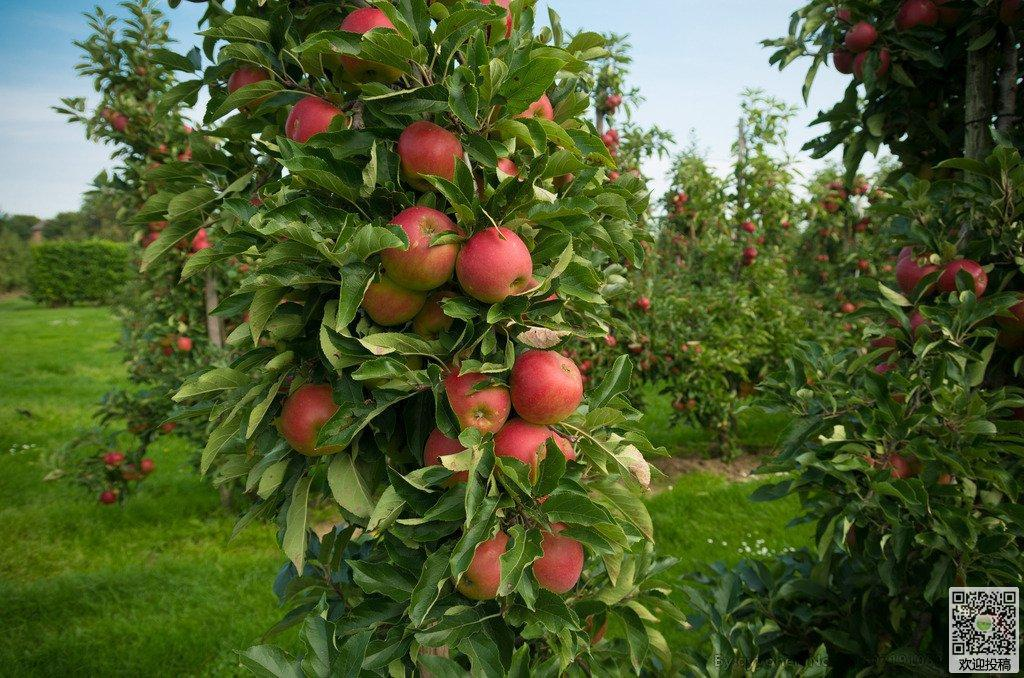apple: (375, 205, 461, 288), (457, 224, 533, 305), (508, 349, 582, 426), (395, 120, 468, 188), (450, 526, 511, 601), (443, 370, 510, 436), (279, 384, 337, 456), (493, 420, 575, 467), (533, 533, 583, 593), (285, 96, 346, 143), (896, 253, 944, 295), (940, 258, 986, 300), (225, 79, 282, 110), (422, 427, 466, 466), (225, 65, 272, 95), (894, 1, 938, 30)
